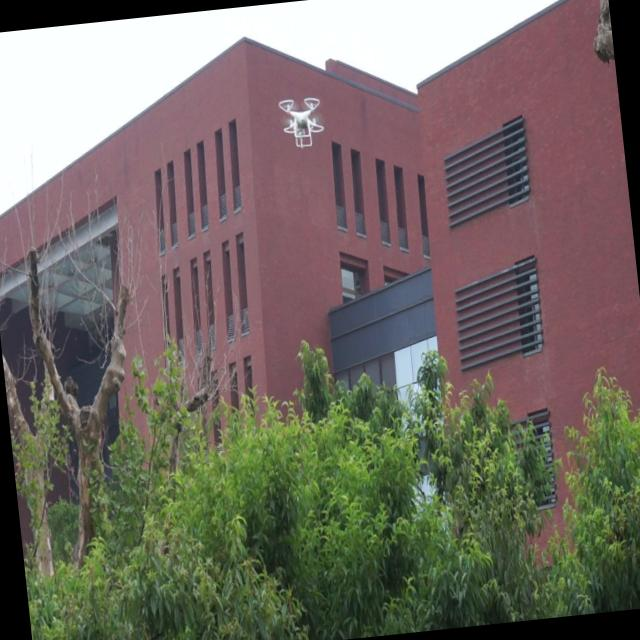drone: (276, 90, 328, 156)
